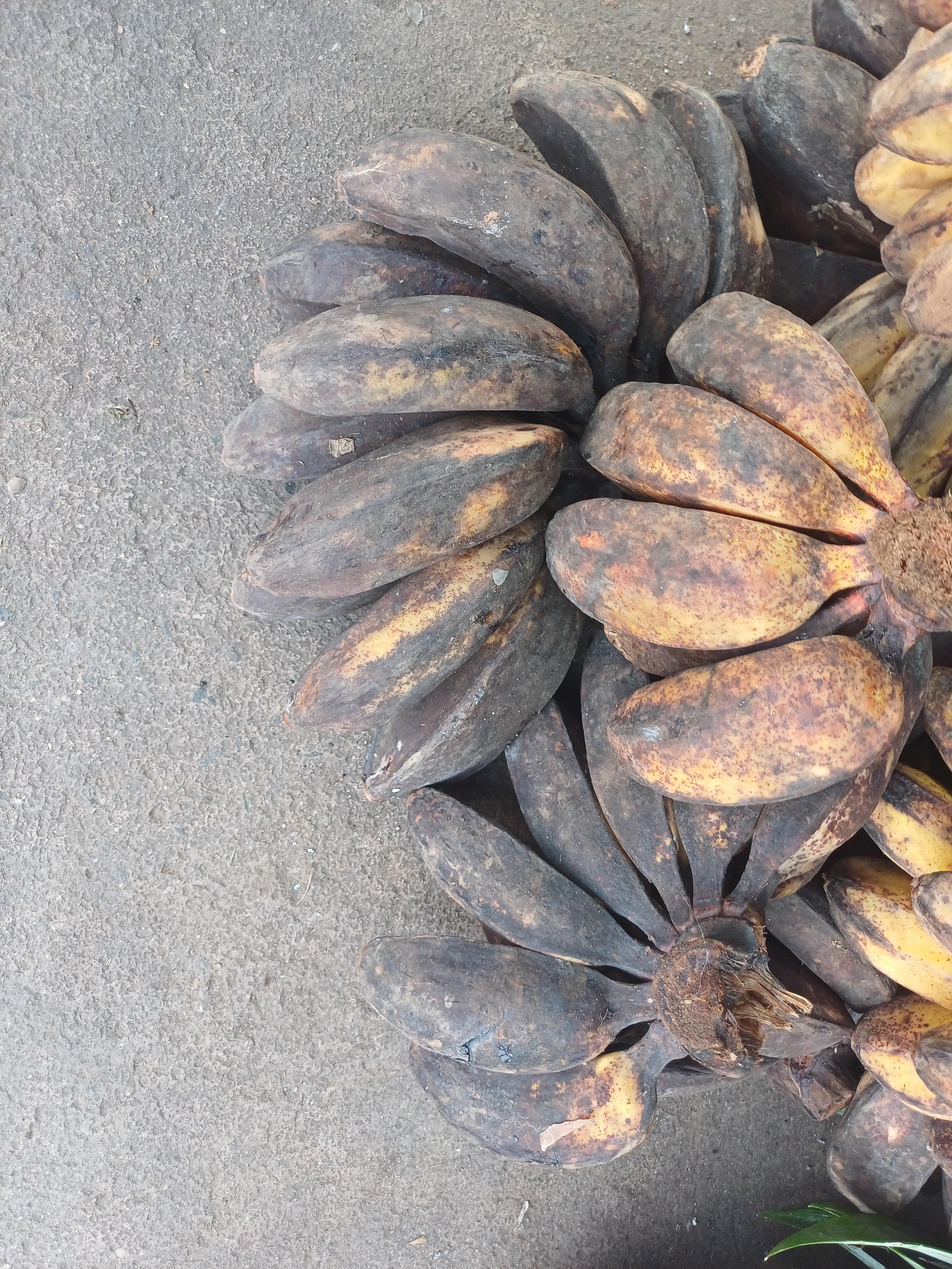overripe: (219, 71, 774, 806), (354, 631, 935, 1175), (714, 0, 923, 325)
ripe: (544, 292, 906, 807), (822, 665, 952, 1185)
